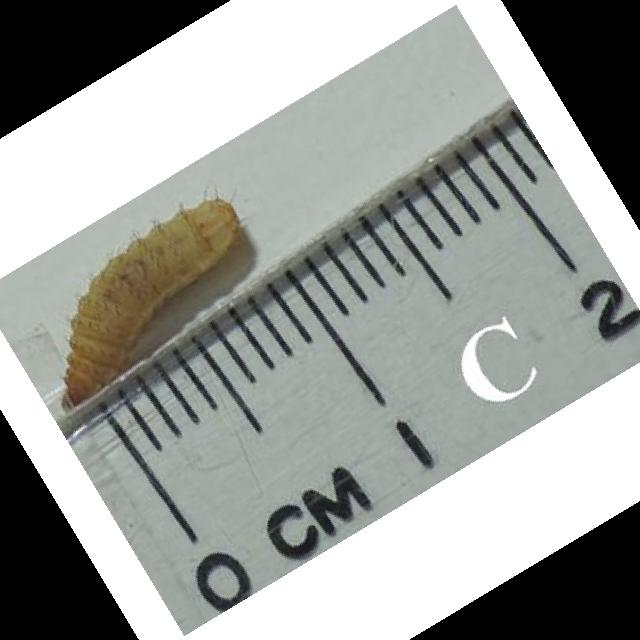Maggot: (58, 199, 246, 409)
